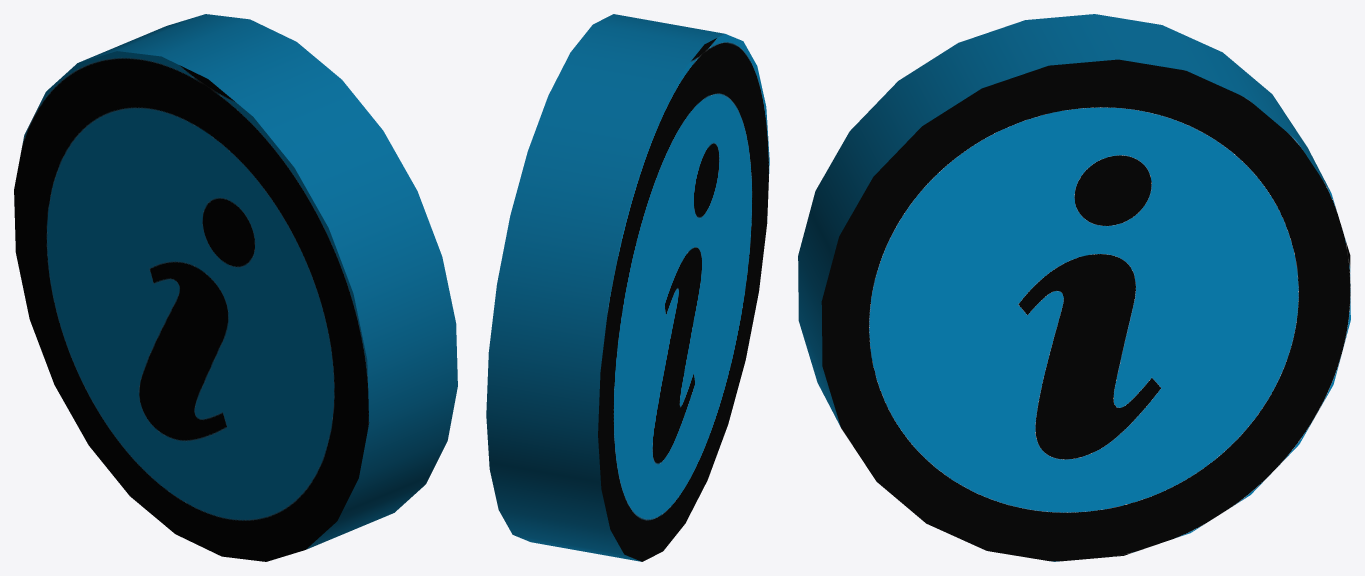
File: icko.gltf
3 renders of one model, left to right at view 1: azimuth 30°, elevation 25°; view 2: azimuth 150°, elevation 25°; view 3: azimuth 270°, elevation 25°, orthographic.
Visible parts, largest first — view 1: root; view 2: root; view 3: root.
Boxes of the visible parts, left/top/right/bottom form: root: left=14, top=14, right=457, bottom=561; root: left=486, top=14, right=769, bottom=561; root: left=798, top=14, right=1350, bottom=561.
Size of the model in its own units: 0.625 by 1.5 by 1.52.
Materials: 2 (1 with a texture image).
